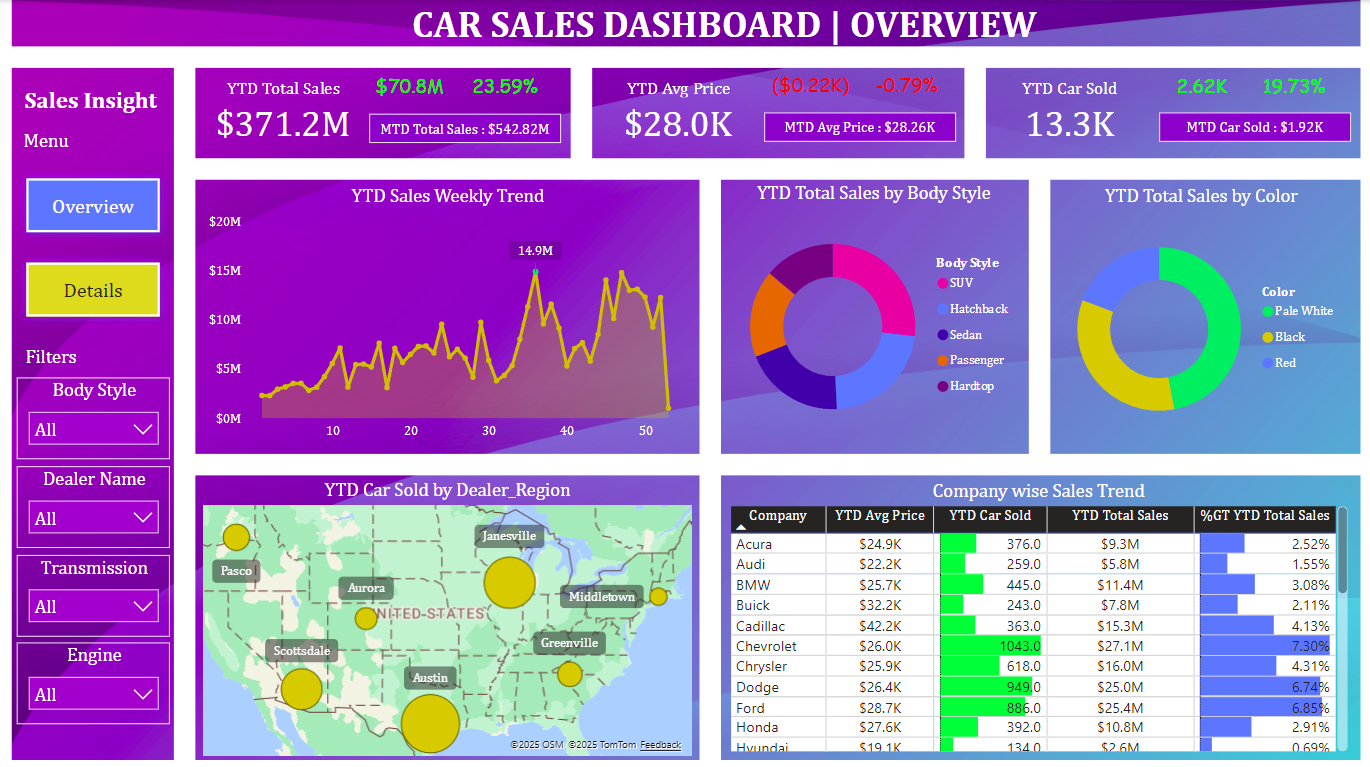

The dashboard page shown, as its layout file describes it:
{"tool":"powerbi","page":{"name":"Overview","canvas":[1280,720],"ordinal":0},"visuals":[{"type":"card","title":"YTD Total Sales","fields":{"Values":["car_data.YTD Toal Sales"]},"box":[186.2,72.5,158.8,66.2],"z":0},{"type":"group","id":"g1","title":"Group 1","box":[0,0,1280,720],"z":1000},{"type":"shape","box":[163.4,419.2,1116.6,24.9],"z":1000,"group":"g1"},{"type":"card","fields":{"Values":["car_data.Sales Difference"]},"box":[345,67.5,75,30],"z":2000},{"type":"shape","box":[0,707.5,1280,12.5],"z":2000,"group":"g1"},{"type":"card","fields":{"Values":["car_data.YOY Sales Growth"]},"box":[435,67.5,73.8,30],"z":3000},{"type":"shape","box":[174.1,144.5,1105.9,26.1],"z":3000,"group":"g1"},{"type":"shape","box":[0,39.1,1280,27.2],"z":4000,"group":"g1"},{"type":"card","fields":{"Values":["car_data.MTD KPI"]},"box":[345,106.2,178.8,27.5],"z":4000},{"type":"shape","box":[0,0,13,720],"z":5000,"group":"g1"},{"type":"card","title":"YTD Avg Price","fields":{"Values":["car_data.YTD Avg Price"]},"box":[553.8,72.5,158.8,66.2],"z":5000},{"type":"shape","box":[1267,0,13,720],"z":6000,"group":"g1"},{"type":"card","fields":{"Values":["car_data.Avg Price Difference"]},"box":[712.5,66.2,86.2,30],"z":6000},{"type":"card","fields":{"Values":["car_data.YOY Avg Price Growth"]},"box":[802.5,66.2,86.2,30],"z":7000},{"type":"shape","box":[952,158.7,33.2,273.6],"z":7000,"group":"g1"},{"type":"card","fields":{"Values":["car_data.MTD Avg Price KPI"]},"box":[712.5,105,178.8,27.5],"z":8000},{"type":"shape","box":[643,158.7,39.1,549.5],"z":8000,"group":"g1"},{"type":"shape","box":[528.1,53.3,29.6,104.2],"z":9000,"group":"g1"},{"type":"card","title":"YTD Car Sold","fields":{"Values":["car_data.YTD Car Sold"]},"box":[917.5,72.5,158.8,66.2],"z":9000},{"type":"shape","box":[894,54.5,29.6,104.2],"z":10000,"group":"g1"},{"type":"card","fields":{"Values":["car_data.Car Sold Difference"]},"box":[1076.2,67.5,86.2,30],"z":10000},{"type":"shape","box":[155.1,54.5,37.9,665.5],"z":11000,"group":"g1"},{"type":"card","fields":{"Values":["car_data.YoY Car Sold Growth"]},"box":[1162.5,67.5,86.2,30],"z":11000},{"type":"card","fields":{"Values":["car_data.MTD Cars Sold KPI"]},"box":[1080,105,178.8,27.5],"z":12000},{"type":"areaChart","title":"YTD Sales Weekly Trend","fields":{"Category":["Calender Table.Week"],"Y":["Sum(car_data.Price ($))","car_data.Max Point"]},"box":[190.8,171.1,455.5,246.2],"z":13000},{"type":"donutChart","fields":{"Category":["car_data.Body Style"],"Y":["car_data.YTD Total Sales"]},"box":[675.8,168.6,278.2,249.9],"z":14000},{"type":"donutChart","fields":{"Y":["car_data.YTD Total Sales"],"Category":["car_data.Color"]},"box":[979.9,171.1,278.2,249.9],"z":15000},{"type":"azureMap","fields":{"Category":["car_data.Dealer_Region"],"Size":["car_data.YTD Car Sold"]},"box":[185.9,444.4,464.1,263.4],"z":16000},{"type":"tableEx","title":"Company wise Sales Trend","fields":{"Values":["car_data.Company","car_data.YTD Avg Price","car_data.YTD Car Sold","car_data.YTD Total Sales","Divide(car_data.YTD Total Sales, ScopedEval(car_data.YTD Total Sales, []))"]},"box":[675.8,445.6,584.7,258.5],"z":17000},{"type":"textbox","title":"CAR SALES DASHBOARD | OVERVIEW","box":[365,1.2,621.2,42.5],"z":18000},{"type":"slicer","title":"Body Style","fields":{"Values":["car_data.Body Style"]},"box":[17.1,351.1,142.5,76.2],"z":19000},{"type":"slicer","title":"Dealer Name","fields":{"Values":["car_data.Dealer_Name"]},"box":[17.1,433.6,142.5,76.2],"z":20000},{"type":"slicer","title":"Transmission","fields":{"Values":["car_data.Transmission"]},"box":[17.1,516.1,142.5,76.2],"z":21000},{"type":"slicer","title":"Engine","fields":{"Values":["car_data.Engine"]},"box":[17.1,597.4,142.5,76.2],"z":22000},{"type":"textbox","title":"Filters","box":[17.5,321.2,63.8,25],"z":23000},{"type":"textbox","title":"Sales Insight","box":[17.5,80,137.5,32.5],"z":24000},{"type":"textbox","title":"Menu","box":[12.5,120,63.8,25],"z":25000},{"type":"pageNavigator","box":[17.5,157.5,142.5,147.5],"z":26000}]}

Visuals, with their boxes in screenshot pixels (x1, y1, x2, y2), scaled from the page's 1280x720 canvas onto the 1370x767 screenshot:
"YTD Total Sales" card: x1=199 y1=77 x2=369 y2=148
"Group 1" group: x1=0 y1=0 x2=1369 y2=766
shape: x1=175 y1=447 x2=1369 y2=473
card - car_data.Sales Difference: x1=369 y1=72 x2=450 y2=104
shape: x1=0 y1=754 x2=1369 y2=766
card - car_data.YOY Sales Growth: x1=466 y1=72 x2=545 y2=104
shape: x1=186 y1=154 x2=1369 y2=182
shape: x1=0 y1=42 x2=1369 y2=71
card - car_data.MTD KPI: x1=369 y1=113 x2=561 y2=142
shape: x1=0 y1=0 x2=14 y2=766
"YTD Avg Price" card: x1=593 y1=77 x2=763 y2=148
shape: x1=1356 y1=0 x2=1369 y2=766
card - car_data.Avg Price Difference: x1=763 y1=71 x2=855 y2=102
card - car_data.YOY Avg Price Growth: x1=859 y1=71 x2=951 y2=102
shape: x1=1019 y1=169 x2=1054 y2=461
card - car_data.MTD Avg Price KPI: x1=763 y1=112 x2=954 y2=141
shape: x1=688 y1=169 x2=730 y2=754
shape: x1=565 y1=57 x2=597 y2=168
"YTD Car Sold" card: x1=982 y1=77 x2=1152 y2=148
shape: x1=957 y1=58 x2=989 y2=169
card - car_data.Car Sold Difference: x1=1152 y1=72 x2=1244 y2=104
shape: x1=166 y1=58 x2=207 y2=766
card - car_data.YoY Car Sold Growth: x1=1244 y1=72 x2=1336 y2=104
card - car_data.MTD Cars Sold KPI: x1=1156 y1=112 x2=1347 y2=141
"YTD Sales Weekly Trend" areaChart: x1=204 y1=182 x2=692 y2=445
donutChart - car_data.Body Style x car_data.YTD Total Sales: x1=723 y1=180 x2=1021 y2=446
donutChart - car_data.YTD Total Sales x car_data.Color: x1=1049 y1=182 x2=1347 y2=448
azureMap - car_data.Dealer_Region x car_data.YTD Car Sold: x1=199 y1=473 x2=696 y2=754
"Company wise Sales Trend" tableEx: x1=723 y1=475 x2=1349 y2=750
"CAR SALES DASHBOARD | OVERVIEW" textbox: x1=391 y1=1 x2=1056 y2=47
"Body Style" slicer: x1=18 y1=374 x2=171 y2=455
"Dealer Name" slicer: x1=18 y1=462 x2=171 y2=543
"Transmission" slicer: x1=18 y1=550 x2=171 y2=631
"Engine" slicer: x1=18 y1=636 x2=171 y2=718
"Filters" textbox: x1=19 y1=342 x2=87 y2=369
"Sales Insight" textbox: x1=19 y1=85 x2=166 y2=120
"Menu" textbox: x1=13 y1=128 x2=82 y2=154
pageNavigator: x1=19 y1=168 x2=171 y2=325
